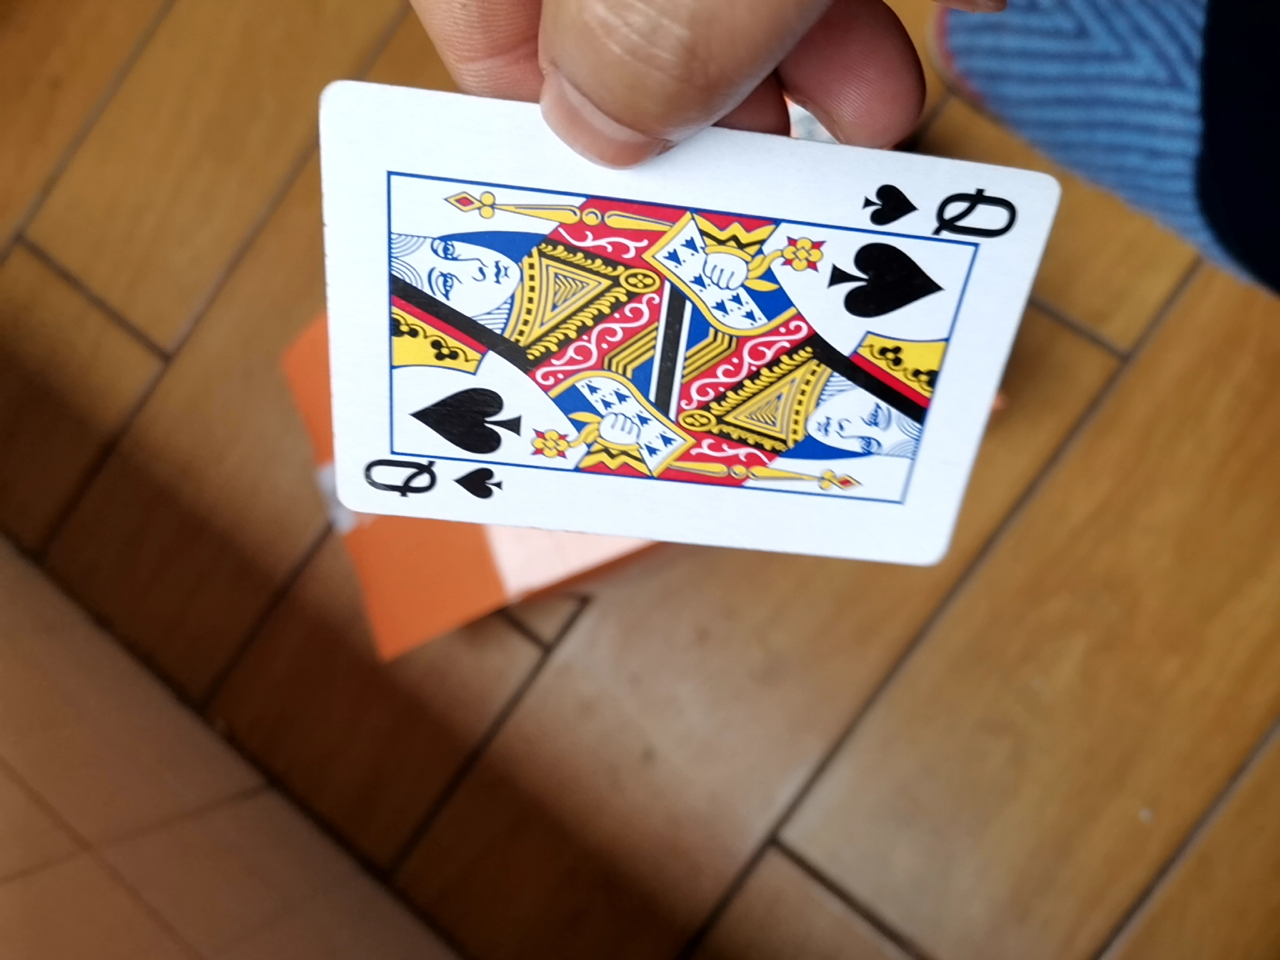ht q: (310, 86, 1039, 565)
